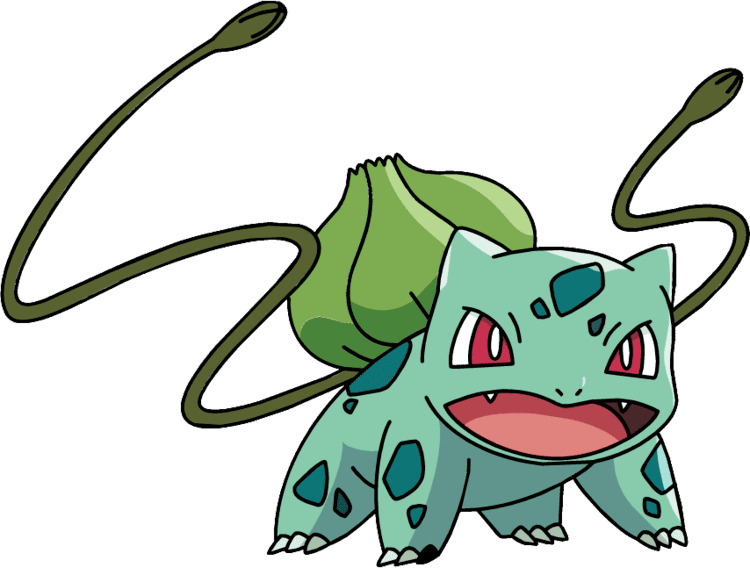001-bulbasaur: (258, 146, 712, 567)
